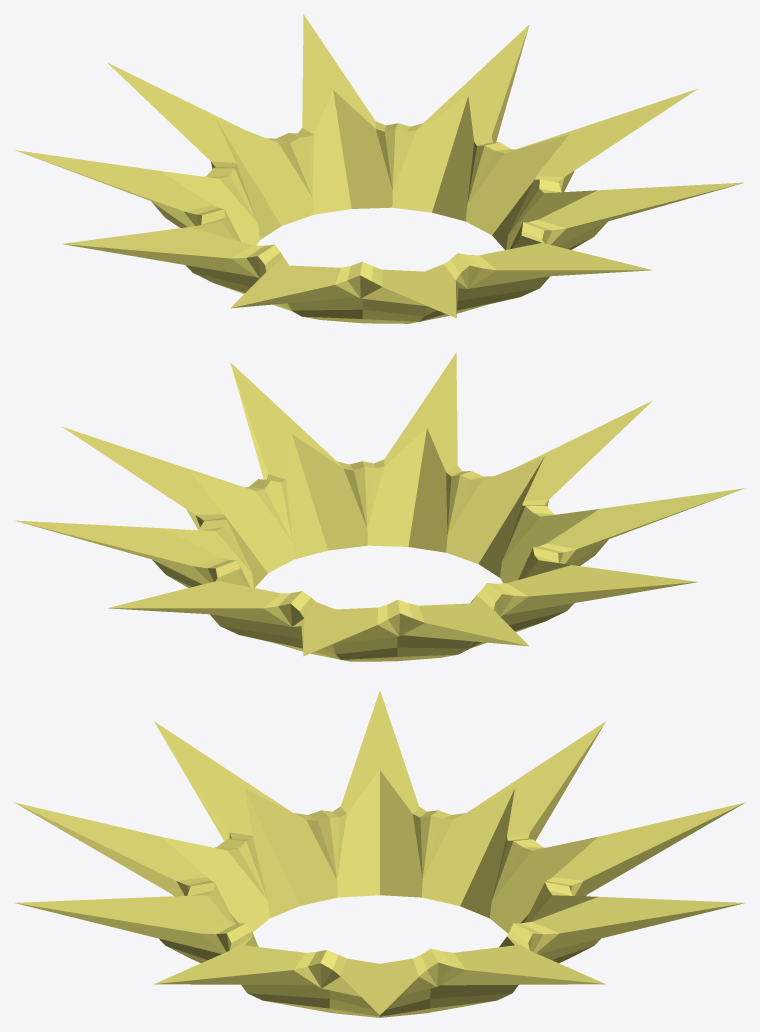
Rendered from barricade.fbx.
The picture shows the model from 3 angles, top to bottom: view 1: azimuth 30°, elevation 25°; view 2: azimuth 150°, elevation 25°; view 3: azimuth 270°, elevation 25°; orthographic projection. The views are drawn at different scales.
Visible parts, largest first — view 1: Cylinder.002; view 2: Cylinder.002; view 3: Cylinder.002.
Part boxes in pixels (left/top/right/bottom): Cylinder.002: left=14, top=14, right=744, bottom=323; Cylinder.002: left=15, top=352, right=745, bottom=661; Cylinder.002: left=14, top=691, right=745, bottom=1017.
Bounding box in the file's own units: 399 × 58.02 × 380.
